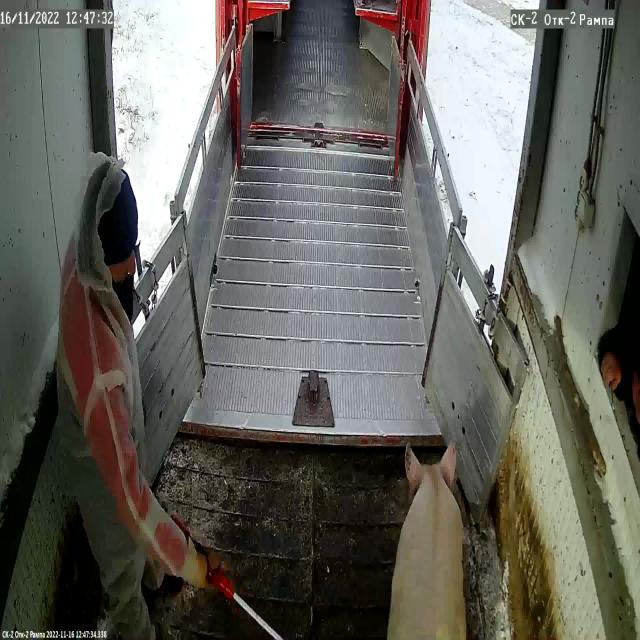pig: (386, 443, 466, 640)
